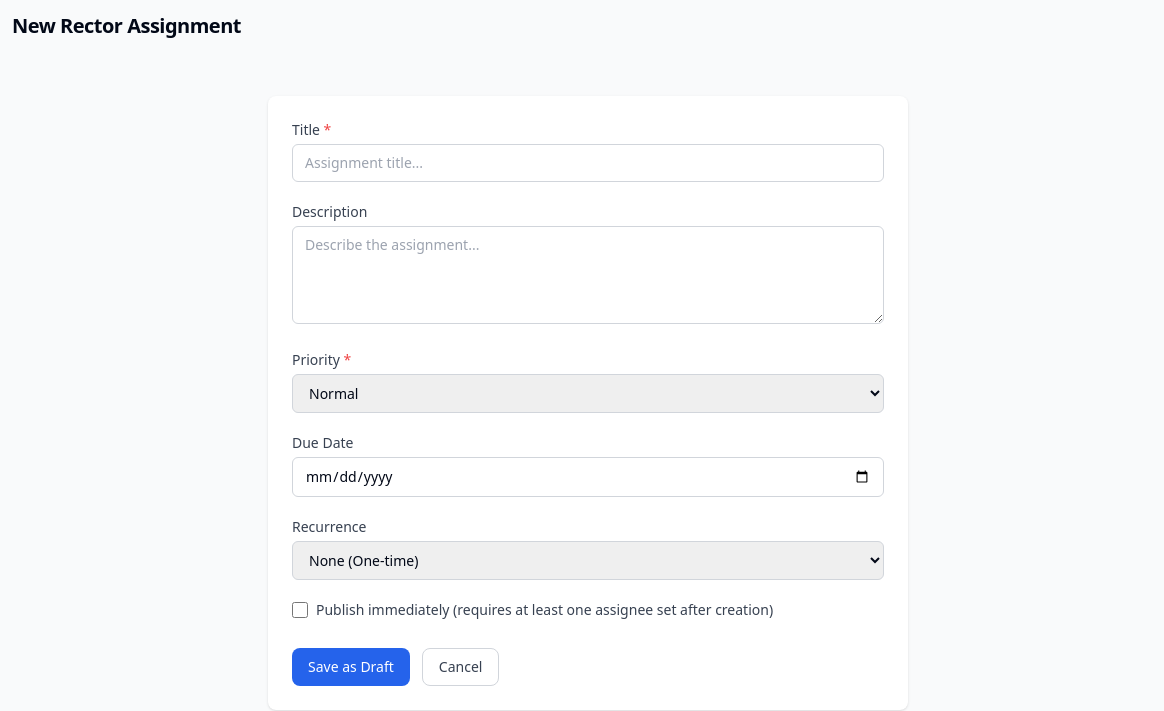
NewRectorAssignmentPage › shows global error on API failure
Type "Error Assignment" into the field with test id "title-input" at point(588, 163), box [292, 144, 884, 182]
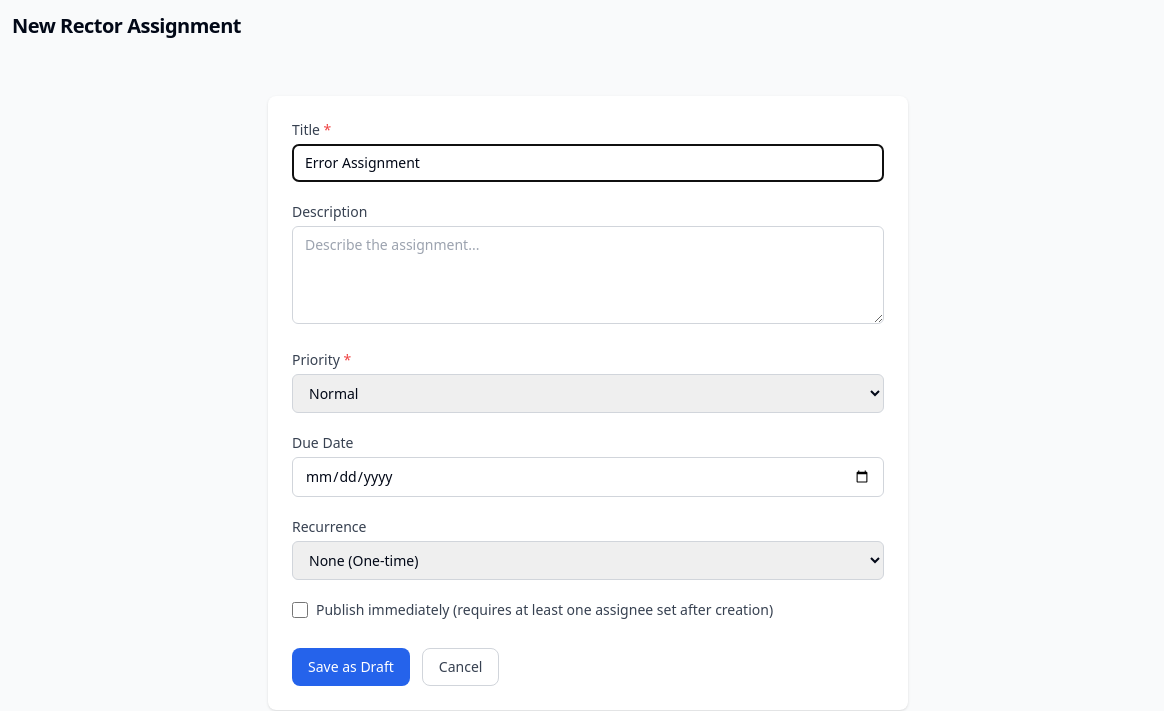
Click the button with test id "submit-btn" at point(351, 667), box [292, 648, 410, 686]
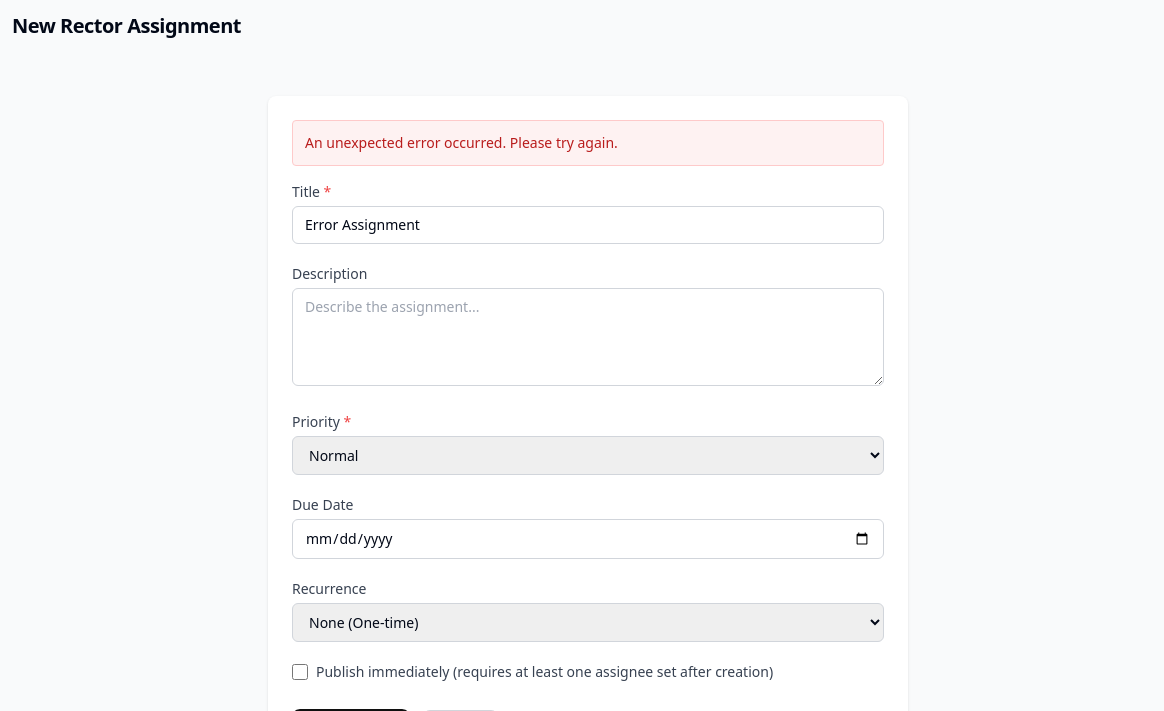
Result: the message "An unexpected error occurred. Please try again." is shown at [292, 120, 884, 166]
